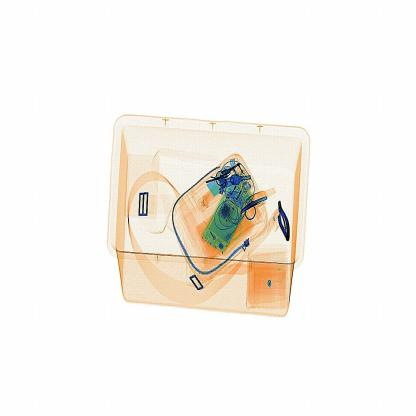pliers: (240, 190, 279, 212)
